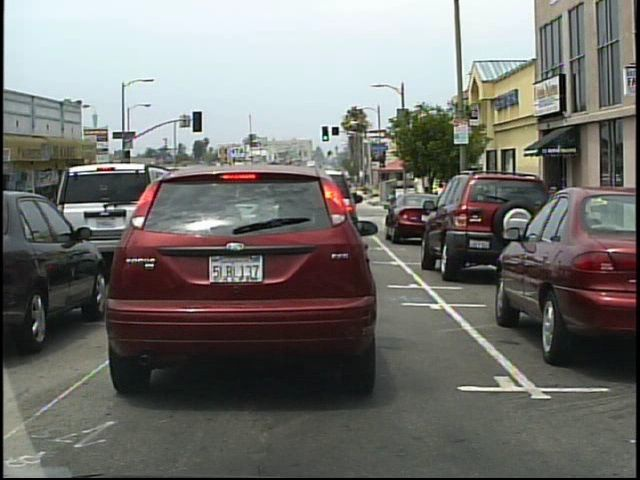person: (392, 187, 403, 220), (402, 186, 412, 220)
